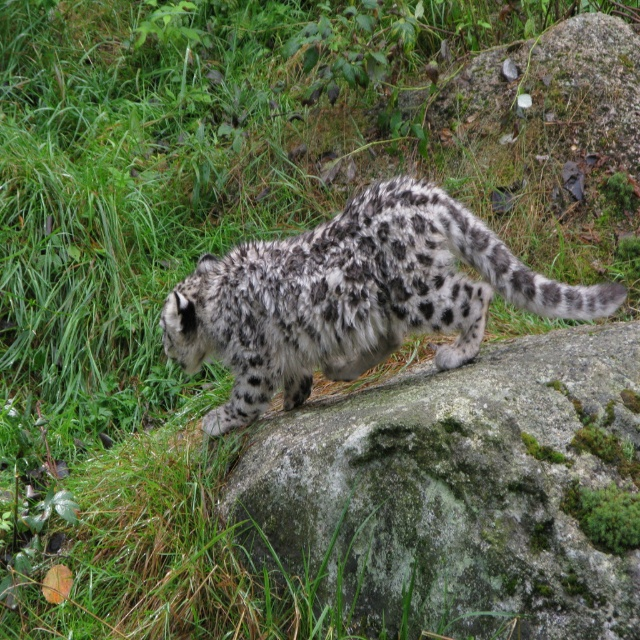Leopard: (159, 172, 627, 436)
